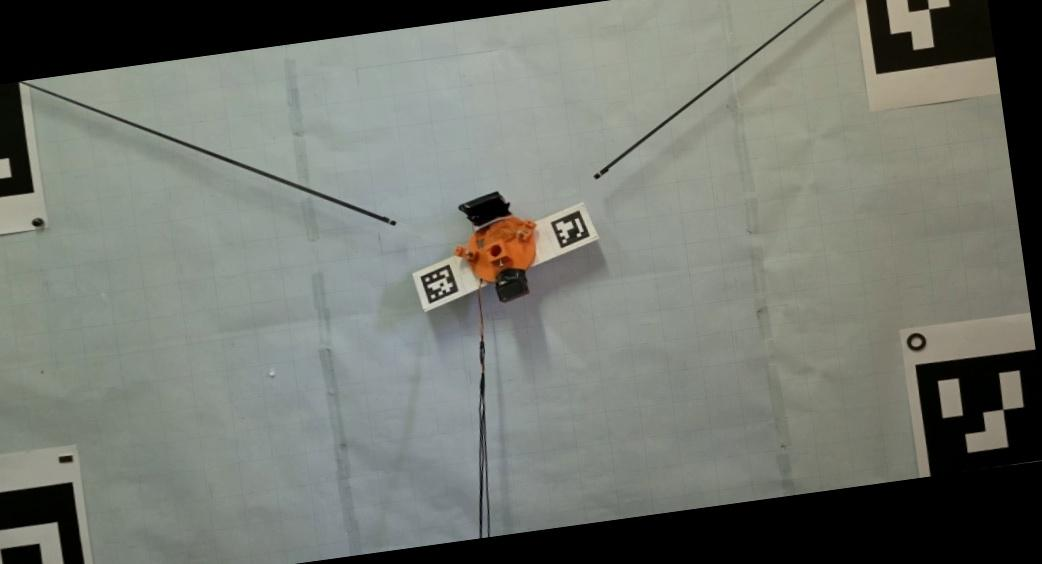robot: (453, 192, 538, 304)
